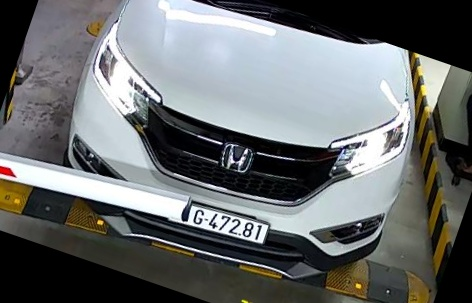plate: (183, 195, 273, 253)
